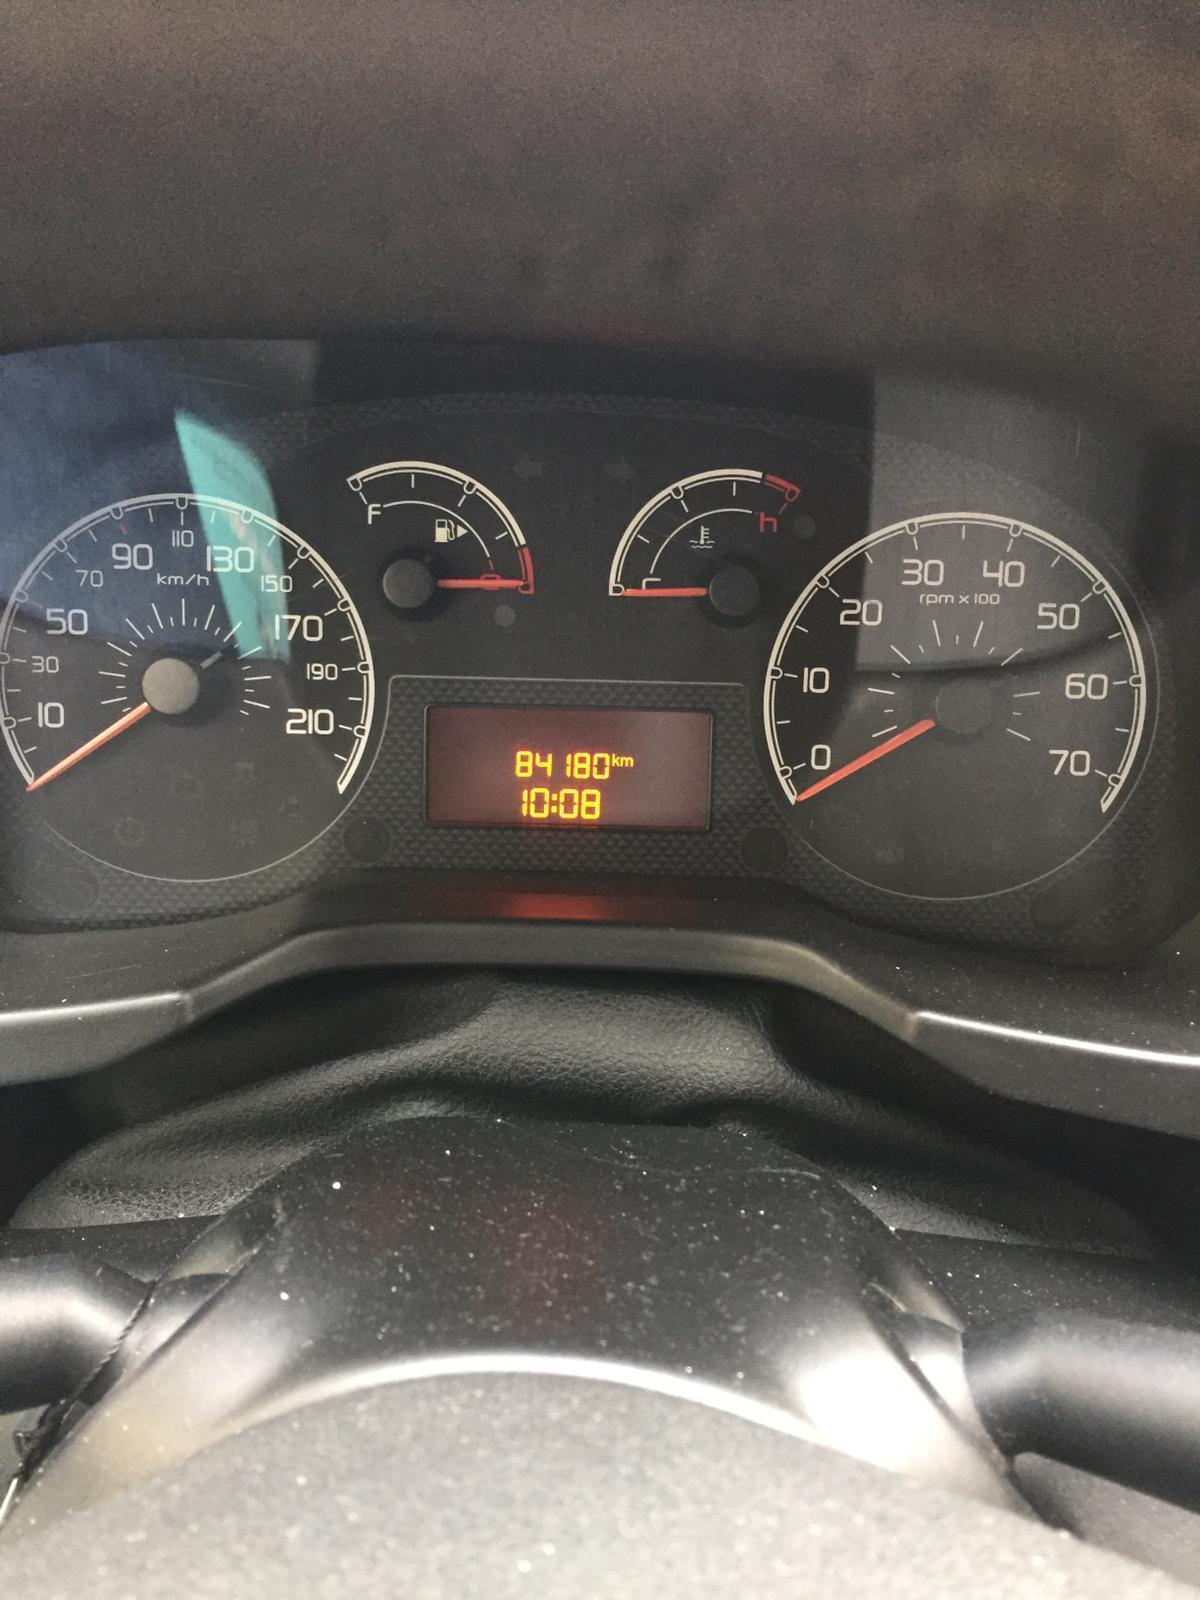0: (529, 786, 550, 819), (558, 787, 579, 819), (592, 751, 609, 781)
1: (521, 786, 528, 818), (565, 751, 571, 779)
4: (534, 751, 553, 775)
8: (581, 786, 601, 821), (514, 750, 532, 779), (574, 751, 589, 779)
X: (619, 755, 634, 769), (550, 791, 557, 815), (611, 751, 619, 767)
odometer: (421, 700, 718, 835)
